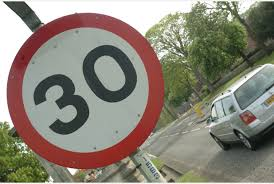Speed_limit_30km: (8, 14, 166, 170)
